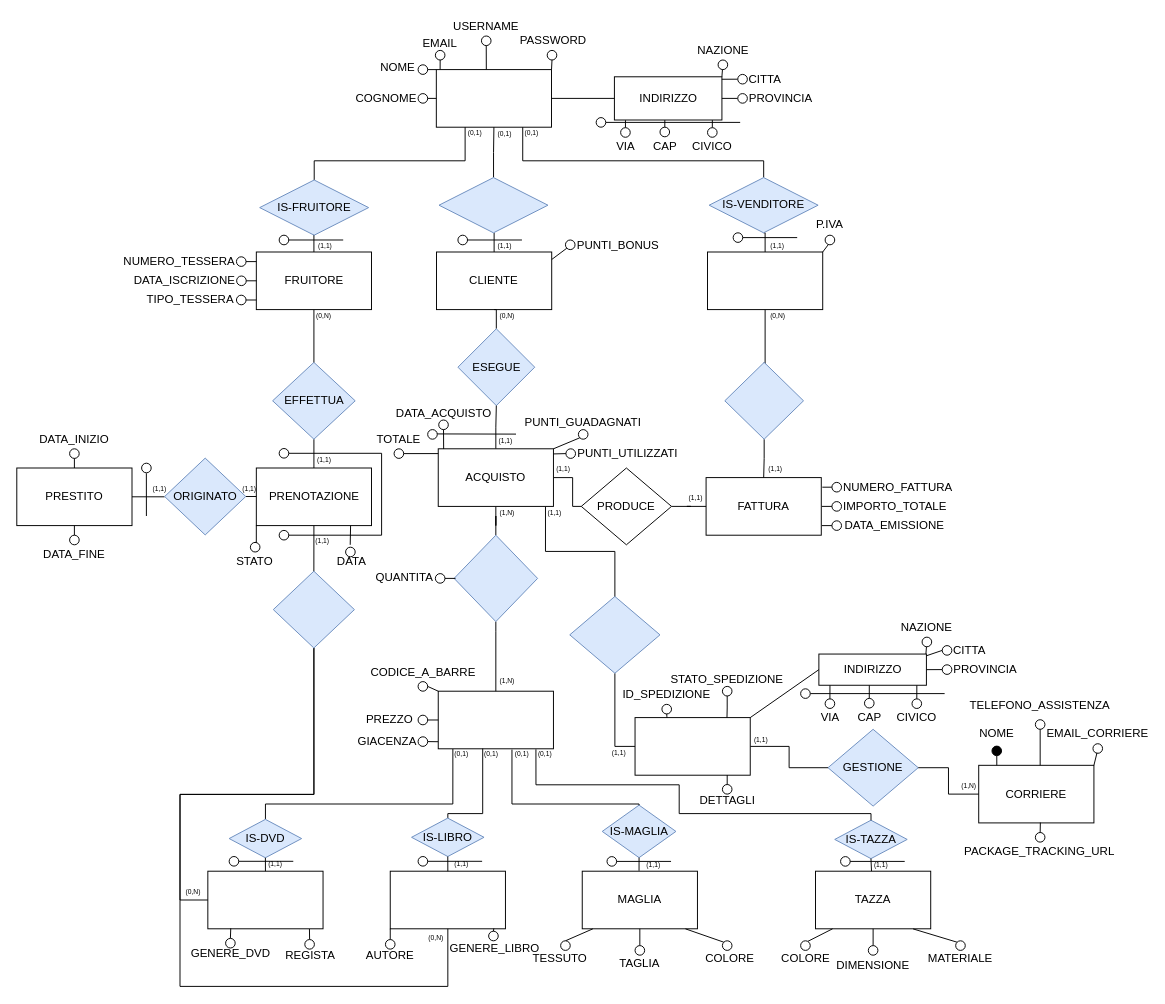
Image size: 1165x1004. Some labels were removed from this diagram. The centre of each missing label's shape, as x and y in pixels:
CONTENUTO: (x=495, y=578)
DVD: (x=265, y=899)
EMETTE: (x=764, y=400)
GENERA: (x=614, y=634)
IS-CLIENTE: (x=493, y=205)
LIBRO: (x=447, y=899)
OGGETTO: (x=495, y=719)
RIGUARDA: (x=313, y=609)
SPEDIZIONE: (x=692, y=746)
UTENTE: (x=493, y=98)
VENDITORE: (x=765, y=280)
